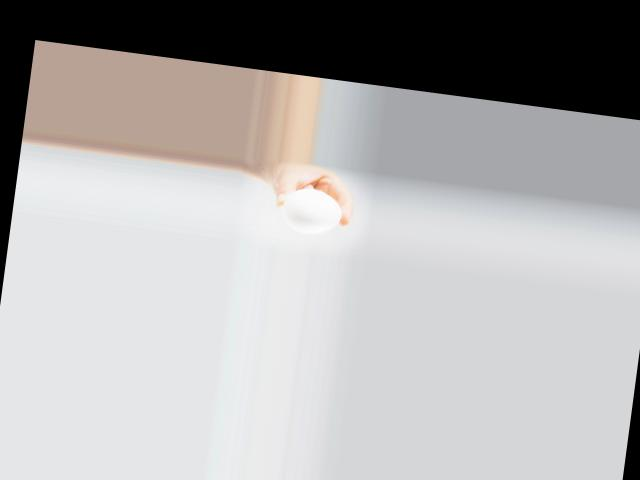egg: (281, 185, 344, 237)
